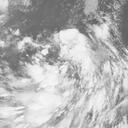cyclone: (32, 29, 96, 84)
